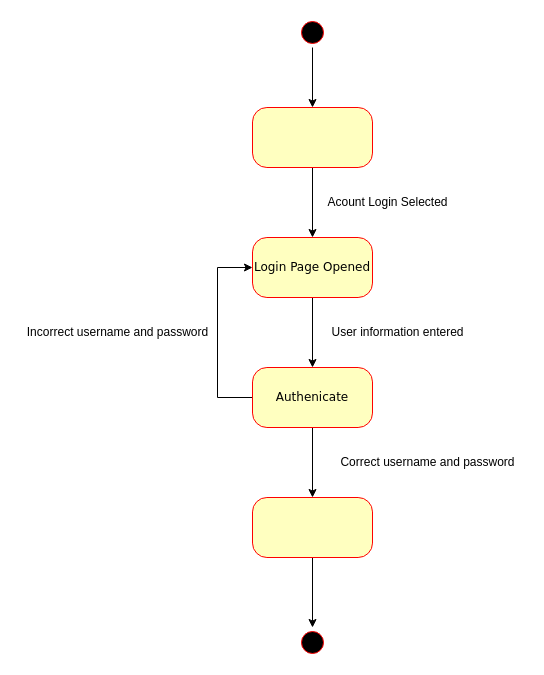
Image size: 544x675. Some labels were removed from this diagram. Here are the shapes that lost their labels. From the top down, the box of each, then its label:
(252, 106, 372, 168): Home Page Opened
(252, 496, 372, 558): Login Accepted
